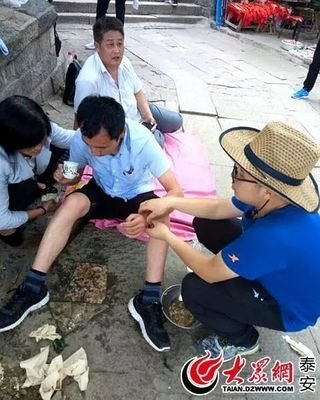falling: (6, 91, 181, 345)
